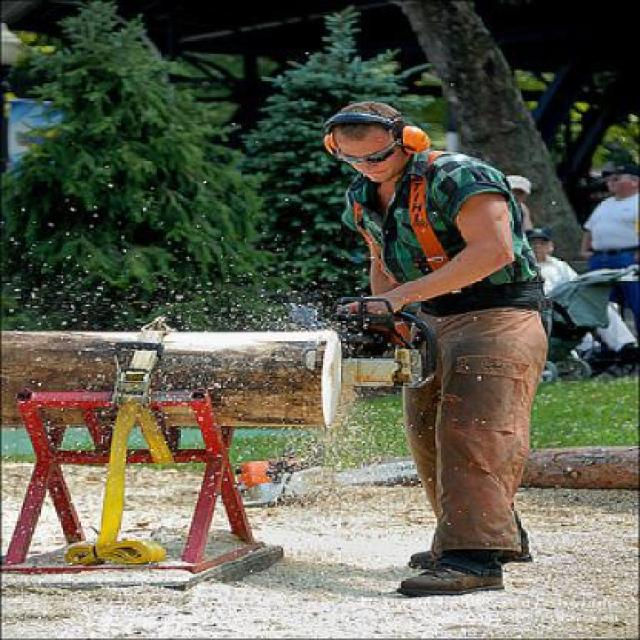Chainsaw: (302, 297, 436, 385)
